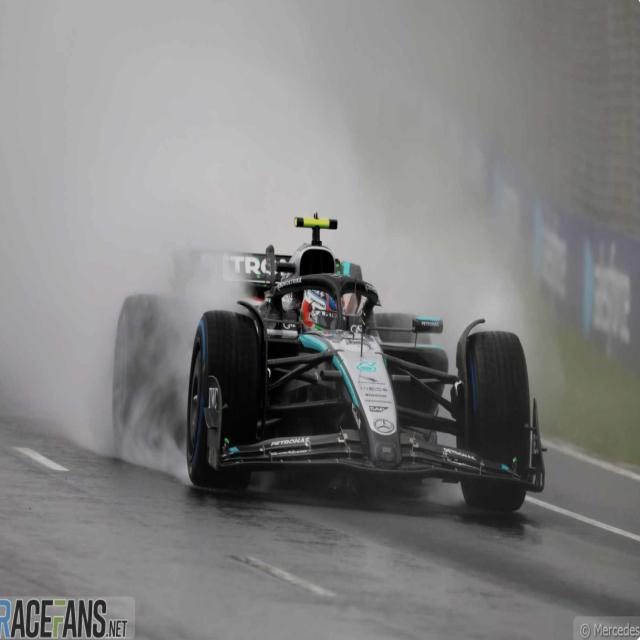Mercedes: (111, 212, 548, 516)
